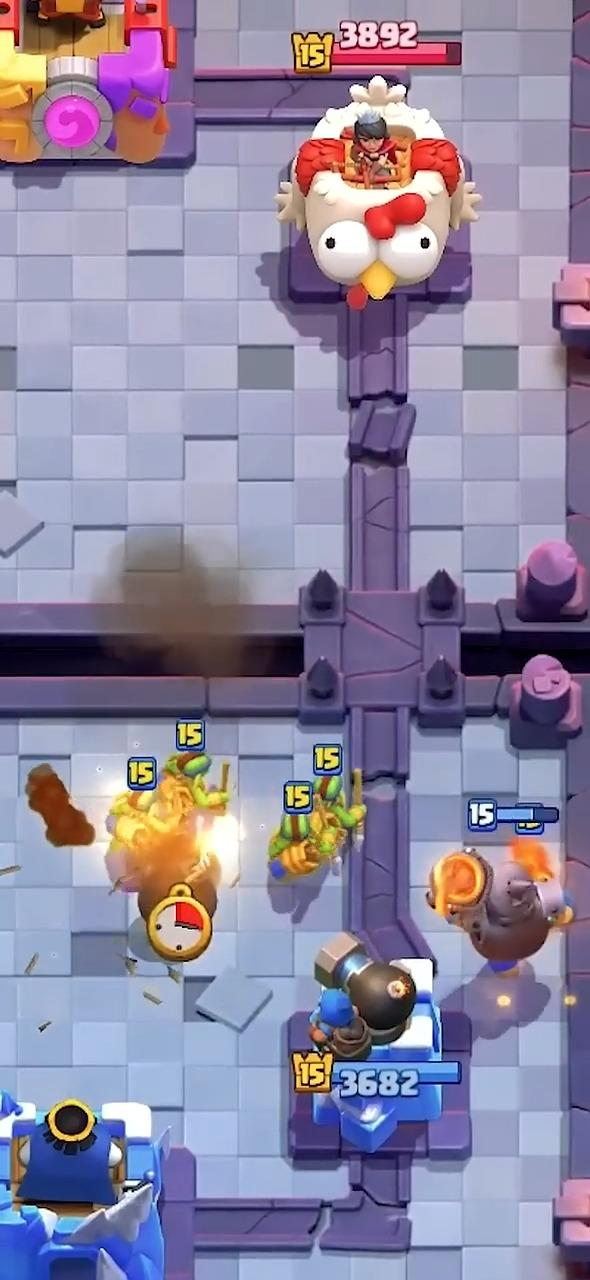furnace: (427, 849, 566, 967)
spear goblin: (268, 801, 344, 876), (160, 750, 229, 814), (107, 793, 155, 855), (314, 775, 361, 826)
